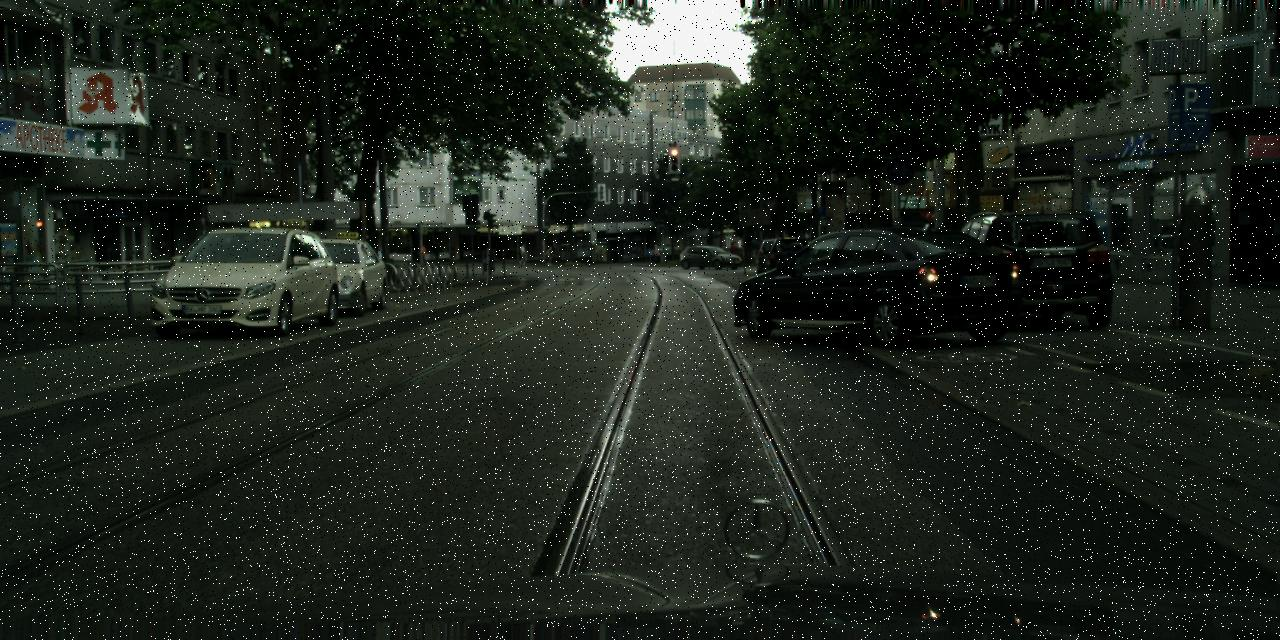ped: (728, 242, 737, 264), (518, 244, 526, 265), (550, 244, 558, 265), (545, 246, 553, 266), (652, 244, 659, 264)
